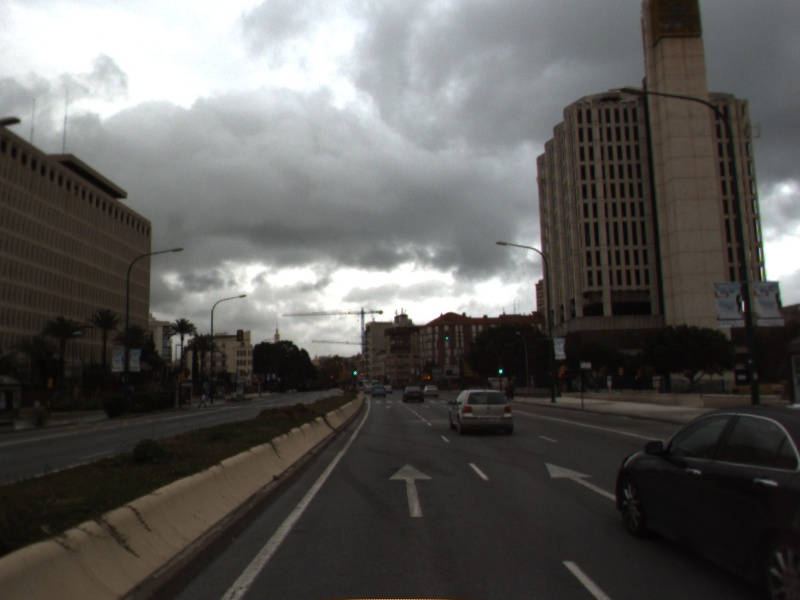STRAIGHT: (543, 460, 619, 504), (385, 461, 435, 520)
